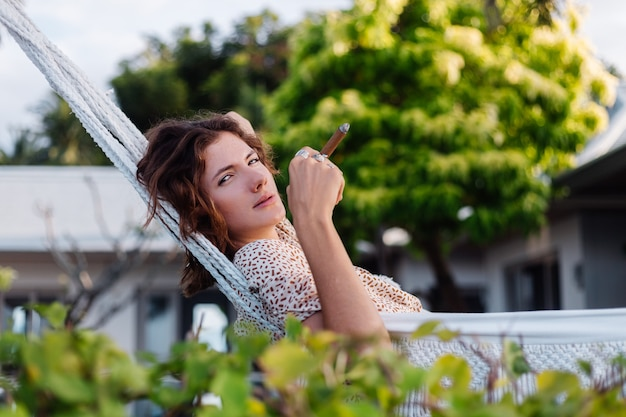cigarette: (321, 121, 351, 159)
